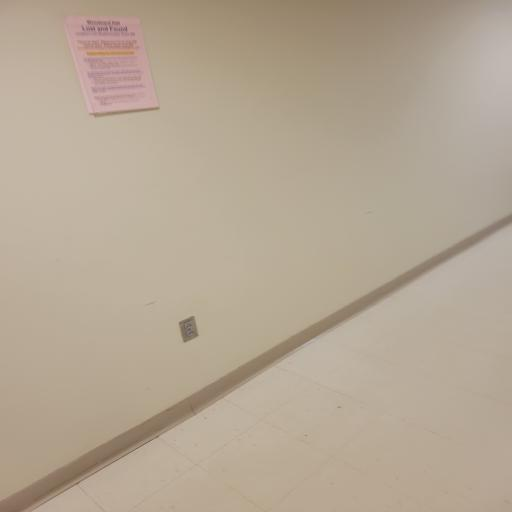outlet: (172, 311, 206, 347)
